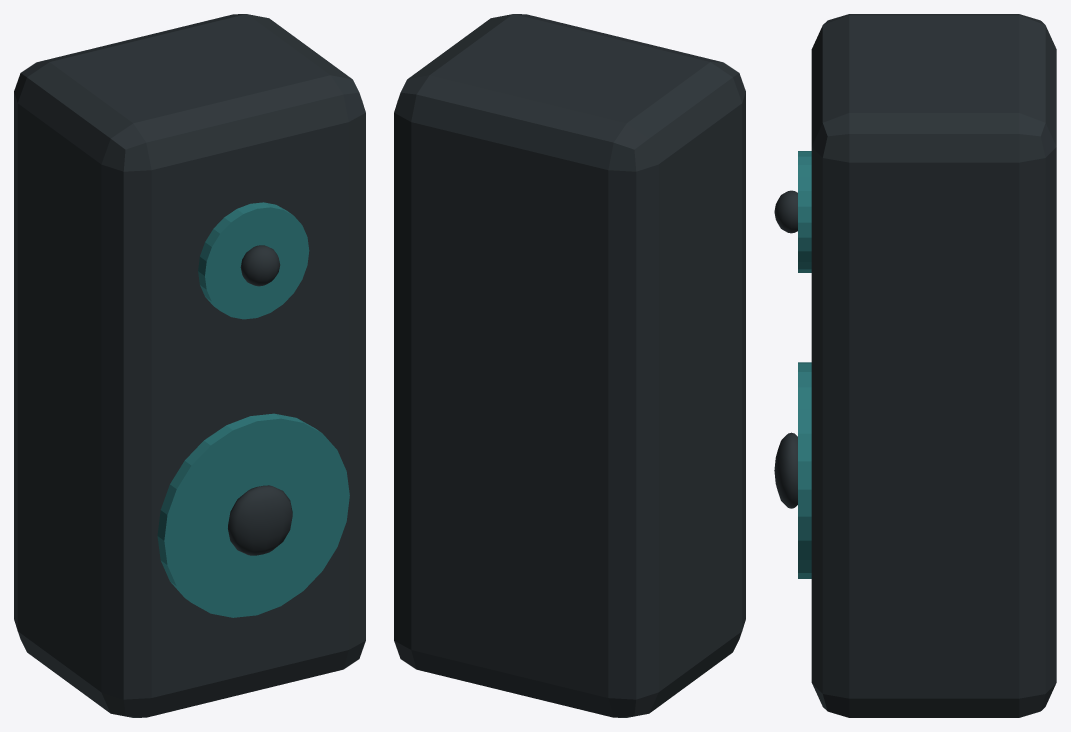
The model's file is speaker.glb.
The picture shows the model from 3 angles, left to right: view 1: azimuth 30°, elevation 25°; view 2: azimuth 150°, elevation 25°; view 3: azimuth 270°, elevation 25°; orthographic projection.
Visible parts, largest first — view 1: speaker; view 2: speaker; view 3: speaker.
Part boxes in pixels (bbox=[...]): speaker: bbox=[14, 14, 365, 717]; speaker: bbox=[394, 14, 745, 717]; speaker: bbox=[774, 14, 1056, 717].
Size of the model in its own units: 0.45 by 0.98 by 0.415.
